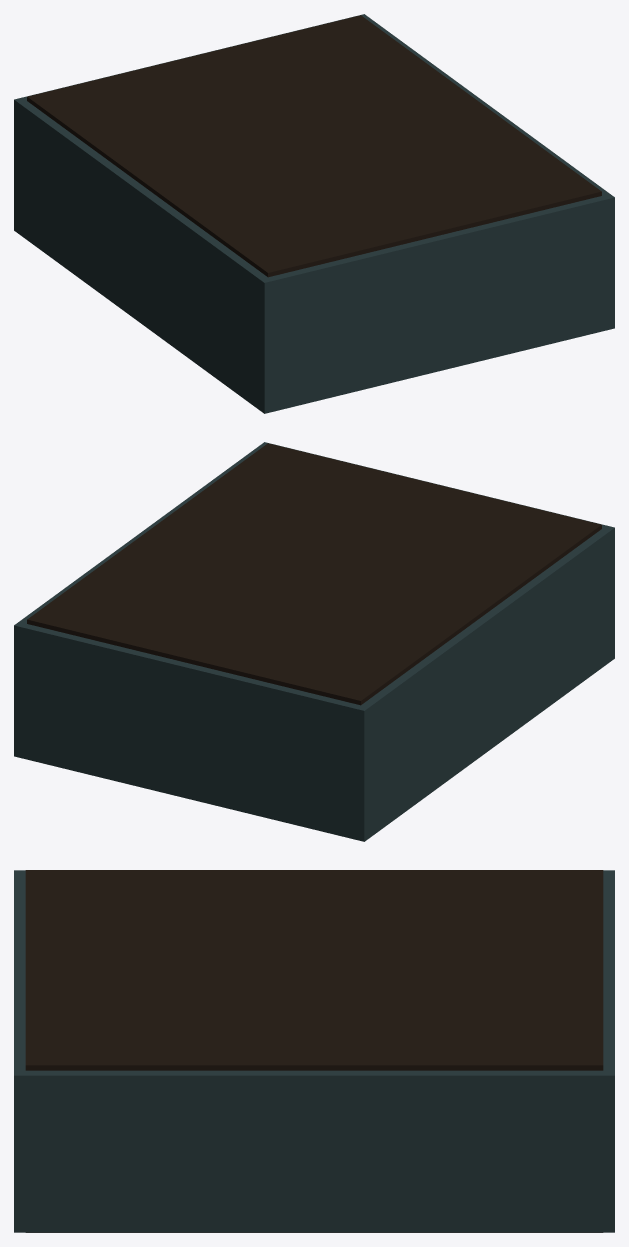
The model's file is garage_v3.glb.
The picture shows the model from 3 angles, top to bottom: view 1: azimuth 30°, elevation 25°; view 2: azimuth 150°, elevation 25°; view 3: azimuth 270°, elevation 25°; orthographic projection. The views are drawn at different scales.
Visible parts, largest first — view 1: Ceiling, Wall_Front, Wall_Left, Wall_Right, Wall_Back; view 2: Ceiling, Wall_Back, Wall_Left, Wall_Right, Wall_Front; view 3: Ceiling, Wall_Right, Wall_Back, Wall_Front, Floor.
Boxes of the visible parts, x1,y1,x2,y2 form: Ceiling: (27, 15, 601, 277); Wall_Front: (259, 194, 614, 413); Wall_Left: (18, 101, 267, 409); Wall_Right: (366, 17, 609, 195); Wall_Back: (14, 14, 368, 233); Ceiling: (27, 443, 601, 705); Wall_Back: (14, 622, 369, 841); Wall_Left: (361, 529, 610, 837); Wall_Right: (19, 445, 262, 623); Wall_Front: (260, 442, 614, 661); Ceiling: (25, 870, 603, 1070); Wall_Right: (25, 1070, 603, 1232); Wall_Back: (603, 870, 614, 1232); Wall_Front: (14, 870, 25, 1232); Floor: (26, 1232, 602, 1232).
Bounding box in the file's own units: 8.4 × 3.2 × 10.4.
